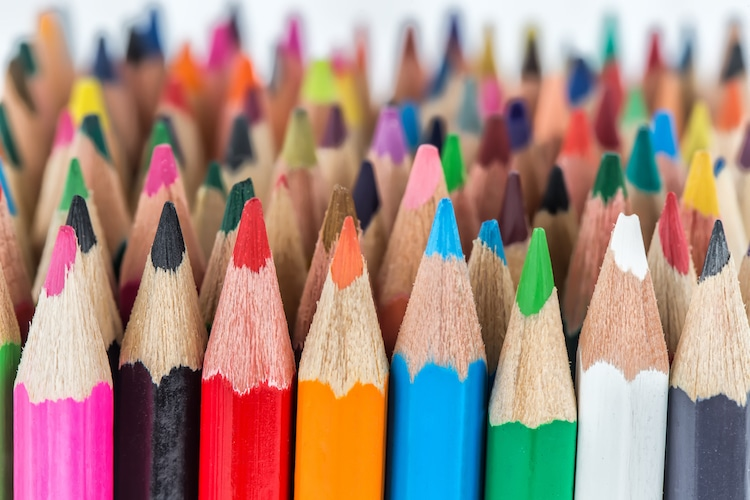pencil: (17, 172, 750, 500)
